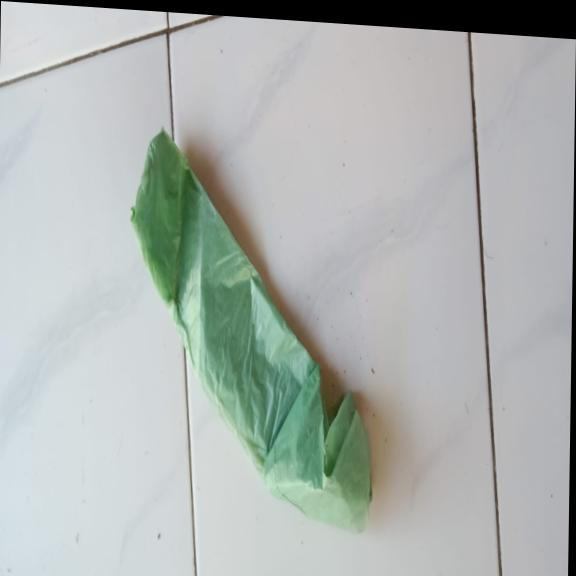Plastik: (124, 127, 377, 531)
